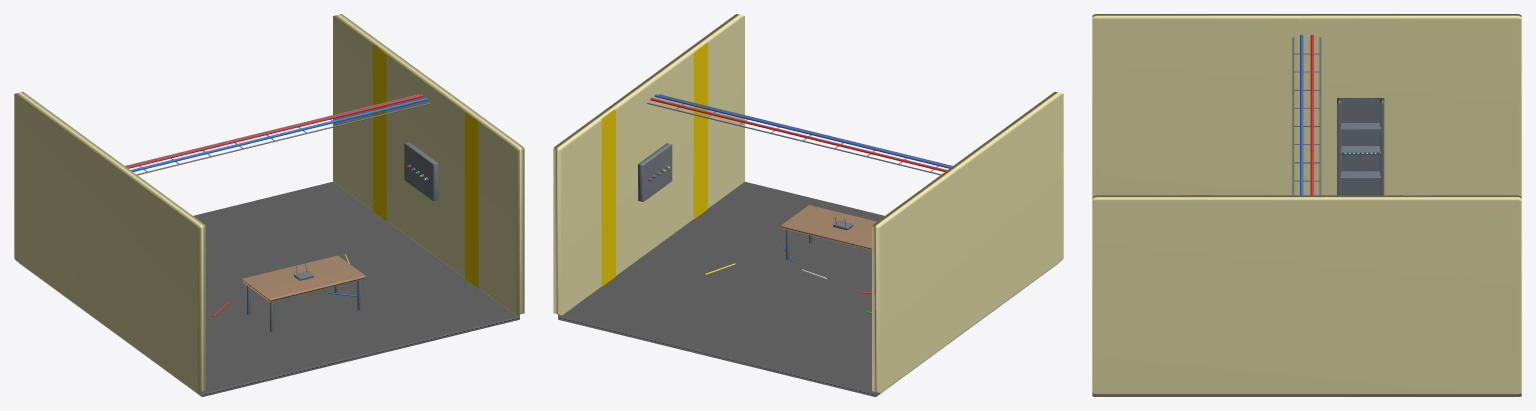
Rendered from zone2.fbx.
3 views of the same model, side by side, from view 1: azimuth 30°, elevation 25°; view 2: azimuth 150°, elevation 25°; view 3: azimuth 270°, elevation 25° (orthographic). The views are drawn at different scales.
Visible parts, largest first — view 1: Floor, LeftWall, RightWall, RouterTable, AccentPanel_-2.0, AccentPanel_2.0, CablePanel, Cylinder.033, Cylinder.032, Cylinder.021, Cylinder.022; view 2: Floor, LeftWall, RightWall, AccentPanel_2.0, AccentPanel_-2.0, RouterTable, CablePanel, Cylinder.032, Cylinder.033, Cylinder.022, Cylinder.021; view 3: RightWall, LeftWall, Cube.002, Floor, Cylinder.032, Cylinder.033, Cube.001, Cube, Cylinder.021, Cylinder.022.
Boxes of the visible parts, <box> form: Floor: <box>19,181,519,396</box>; LeftWall: <box>14,91,205,392</box>; RightWall: <box>333,14,524,315</box>; RouterTable: <box>242,255,365,301</box>; AccentPanel_-2.0: <box>465,112,478,288</box>; AccentPanel_2.0: <box>373,44,387,221</box>; CablePanel: <box>404,142,438,201</box>; Cylinder.033: <box>126,94,423,168</box>; Cylinder.032: <box>131,97,427,171</box>; Cylinder.021: <box>136,102,430,175</box>; Cylinder.022: <box>125,94,419,166</box>; Floor: <box>558,181,1058,396</box>; LeftWall: <box>872,91,1063,392</box>; RightWall: <box>553,14,744,315</box>; AccentPanel_2.0: <box>601,109,615,286</box>; AccentPanel_-2.0: <box>693,42,707,218</box>; RouterTable: <box>781,205,876,250</box>; CablePanel: <box>638,143,672,201</box>; Cylinder.032: <box>654,94,951,168</box>; Cylinder.033: <box>650,97,946,171</box>; Cylinder.022: <box>647,102,941,175</box>; Cylinder.021: <box>658,94,952,166</box>; RightWall: <box>1092,195,1521,394</box>; LeftWall: <box>1092,14,1521,196</box>; Cube.002: <box>1337,98,1383,195</box>; Floor: <box>1092,393,1521,396</box>; Cylinder.032: <box>1300,34,1303,195</box>; Cylinder.033: <box>1310,34,1313,195</box>; Cube.001: <box>1380,98,1384,195</box>; Cube: <box>1337,98,1341,195</box>; Cylinder.021: <box>1292,37,1294,195</box>; Cylinder.022: <box>1319,37,1321,195</box>.
Size of the model in its own units: 820 by 410 by 800.
